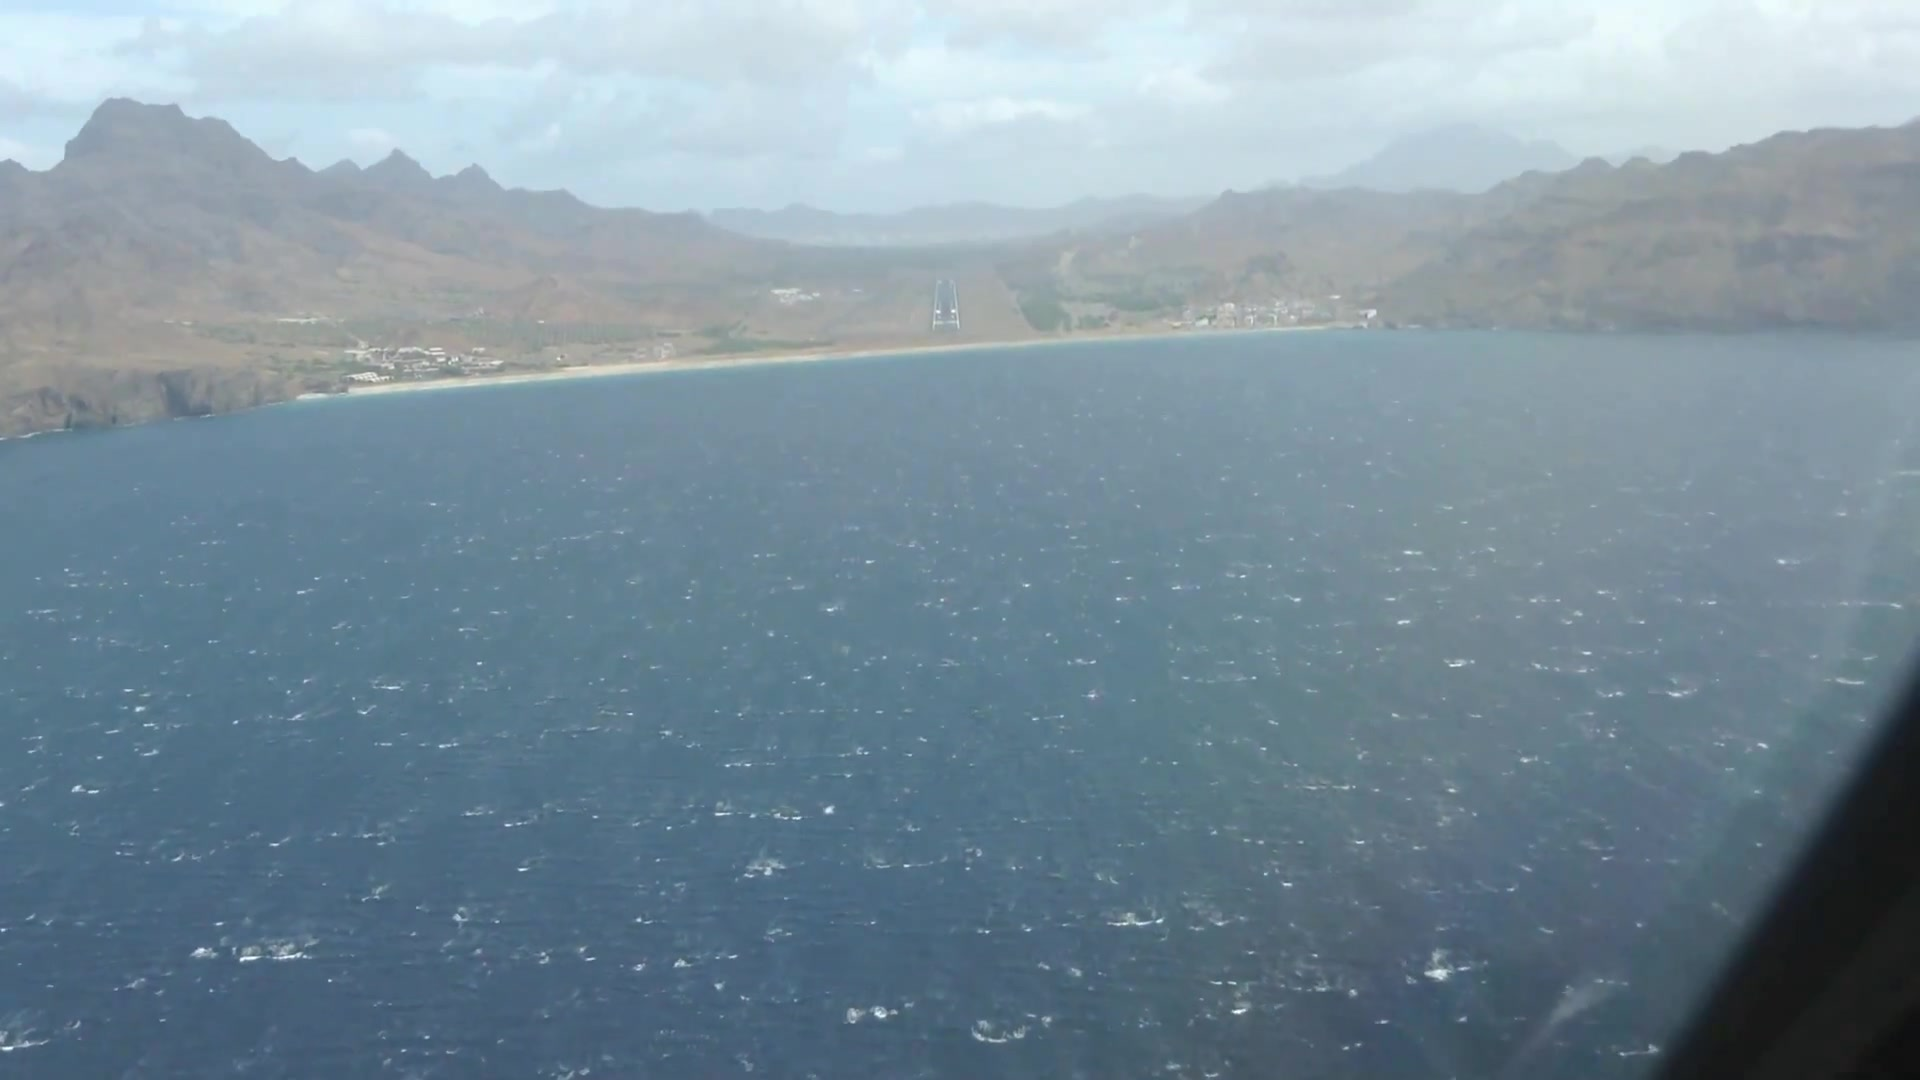runway: (931, 273, 961, 332)
